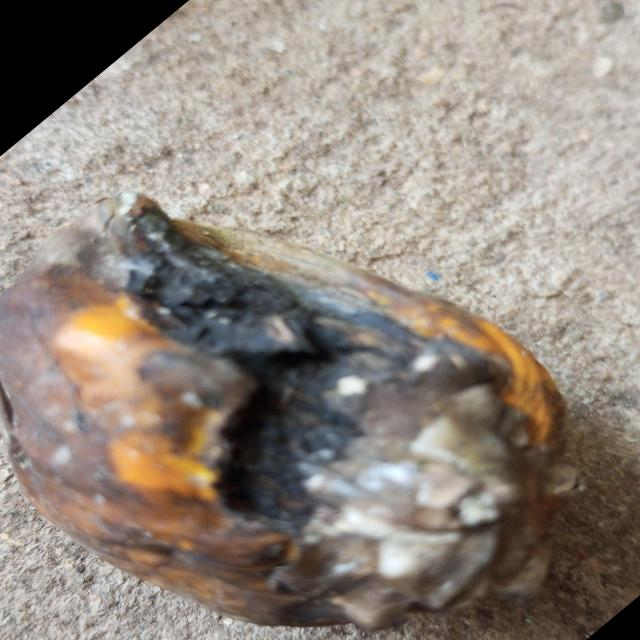damaged: (0, 192, 579, 629)
